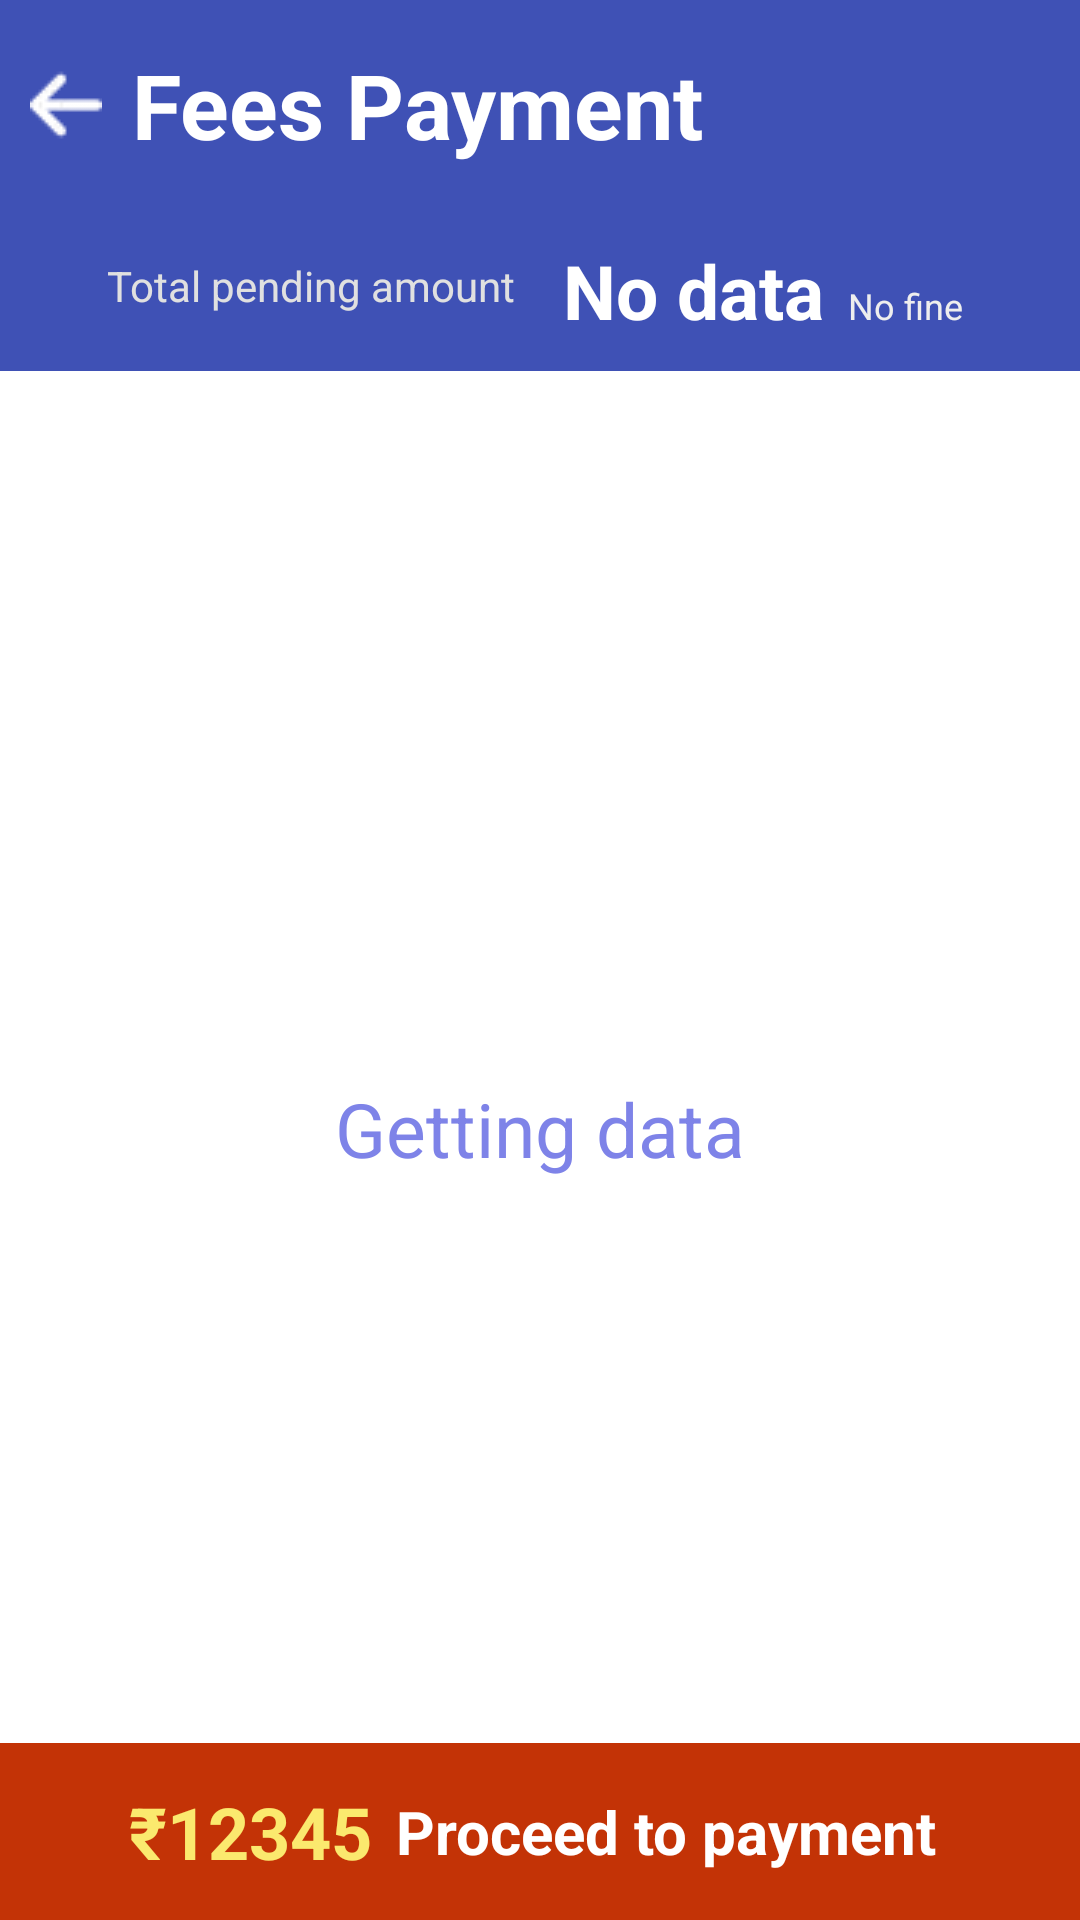

Where icons sit on this 1080*1920 app screen, as (x1, y1, x2, y2):
arrow: (30, 72, 102, 138)
